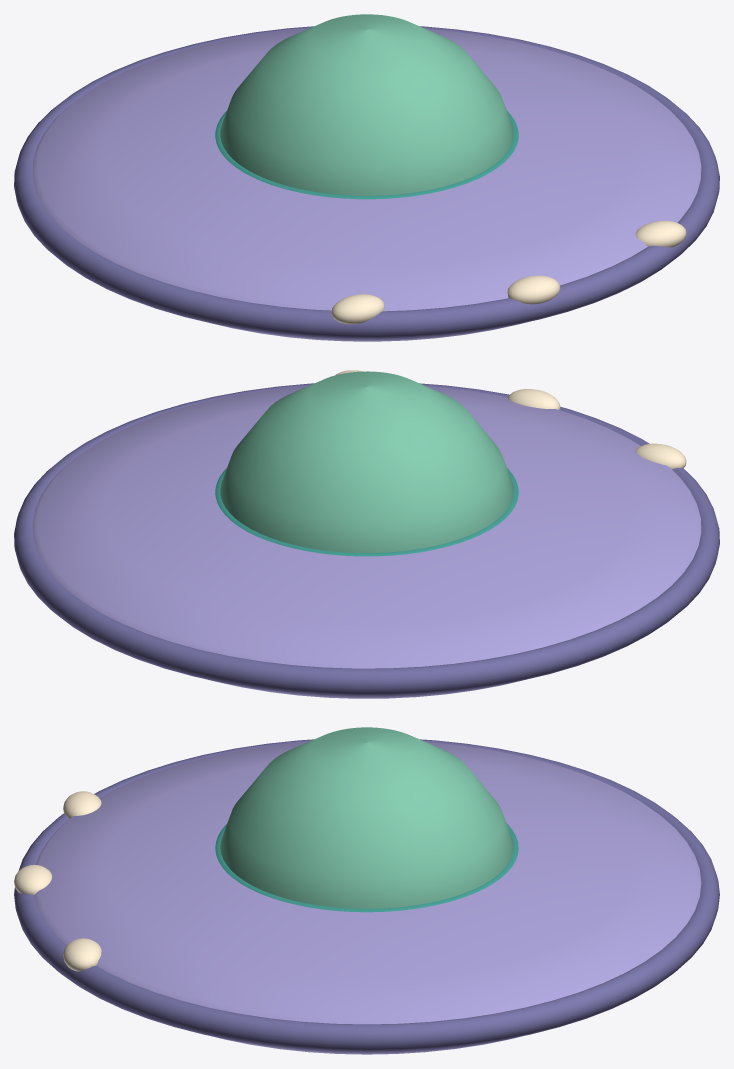
The model's file is ufo.glb.
3 views of the same model, one above another, from view 1: azimuth 30°, elevation 25°; view 2: azimuth 150°, elevation 25°; view 3: azimuth 270°, elevation 25° (orthographic).
Visible parts, largest first — view 1: BLIP_Hat_UFO; view 2: BLIP_Hat_UFO; view 3: BLIP_Hat_UFO.
Part boxes in pixels (left/top/right/bottom): BLIP_Hat_UFO: left=14, top=14, right=719, bottom=341; BLIP_Hat_UFO: left=14, top=370, right=719, bottom=698; BLIP_Hat_UFO: left=14, top=727, right=719, bottom=1054.
Bounding box in the file's own units: 2.27 × 0.705 × 2.27.
